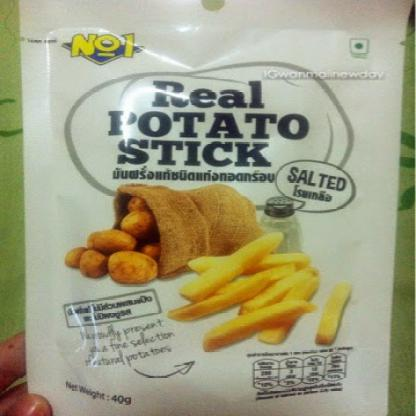potatochip: (17, 0, 410, 415)
